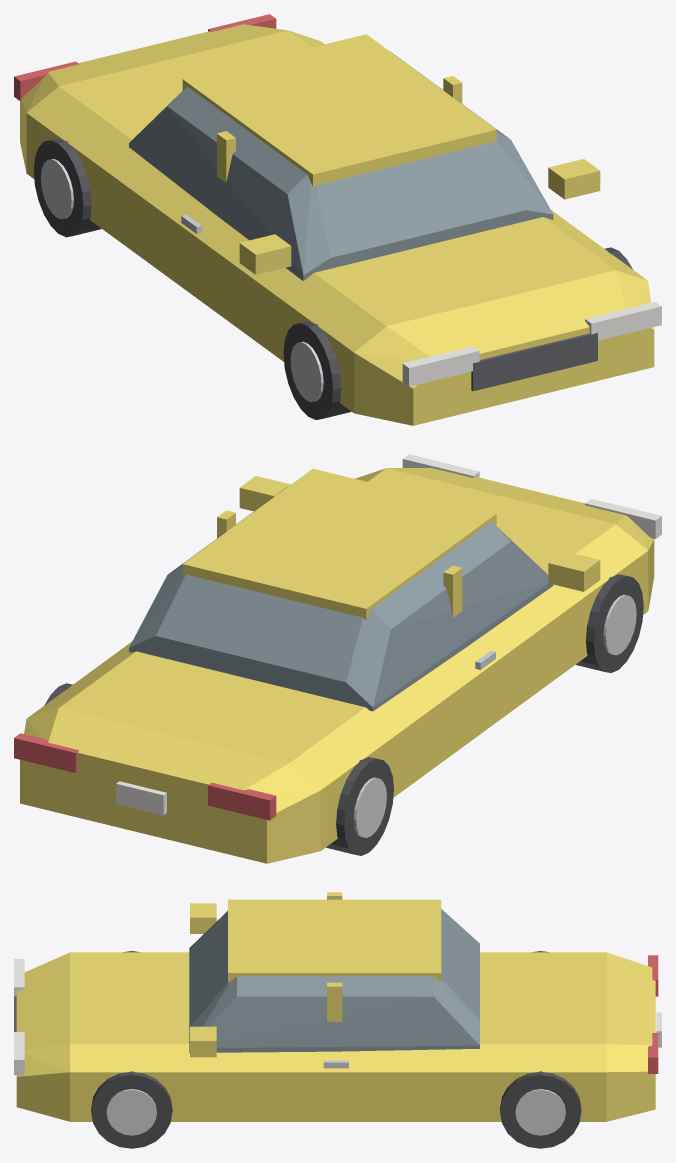
The model's file is revuelto-yellow-2026.glb.
3 views of the same model, one above another, from view 1: azimuth 30°, elevation 25°; view 2: azimuth 150°, elevation 25°; view 3: azimuth 270°, elevation 25° (orthographic). The views are drawn at different scales.
Parts seen in each view (by area): view 1: body, cabin_glass, roof, grille, wheel_-1_1_tire, wheel_-1_-1_tire, headlight_-1, headlight_1, mirror_-1, mirror_1, wheel_-1_1_rim, wheel_-1_-1_rim (+2 smaller); view 2: body, cabin_glass, roof, wheel_-1_1_tire, wheel_-1_-1_tire, taillight_-1, mirror_-1, taillight_1, wheel_-1_1_rim, wheel_-1_-1_rim, rear_plate, mirror_1 (+3 smaller); view 3: body, cabin_glass, roof, wheel_1_-1_tire, wheel_1_1_tire, wheel_1_1_rim, wheel_1_-1_rim, mirror_1, mirror_-1, pillar_1, headlight_1, taillight_1.
Boxes of the visible parts, x1,y1,x2,y2 form: body: [20, 24, 654, 425]; cabin_glass: [129, 51, 553, 280]; roof: [182, 34, 496, 185]; grille: [471, 333, 597, 391]; wheel_-1_1_tire: [283, 321, 351, 419]; wheel_-1_-1_tire: [33, 138, 101, 237]; headlight_-1: [402, 346, 479, 386]; headlight_1: [585, 301, 661, 340]; mirror_-1: [239, 234, 291, 274]; mirror_1: [548, 159, 600, 199]; wheel_-1_1_rim: [290, 341, 323, 402]; wheel_-1_-1_rim: [40, 159, 73, 219]; body: [20, 468, 654, 863]; cabin_glass: [129, 487, 553, 711]; roof: [182, 468, 496, 620]; wheel_-1_1_tire: [576, 574, 643, 672]; wheel_-1_-1_tire: [326, 757, 393, 855]; taillight_-1: [208, 782, 276, 820]; mirror_-1: [548, 551, 600, 591]; taillight_1: [14, 733, 78, 773]; wheel_-1_1_rim: [603, 594, 636, 655]; wheel_-1_-1_rim: [353, 777, 386, 837]; rear_plate: [116, 781, 166, 815]; mirror_1: [239, 476, 290, 511]; body: [16, 952, 655, 1121]; cabin_glass: [189, 909, 479, 1052]; roof: [228, 899, 441, 982]; wheel_1_-1_tire: [500, 1071, 581, 1148]; wheel_1_1_tire: [91, 1071, 172, 1148]; wheel_1_1_rim: [106, 1089, 156, 1135]; wheel_1_-1_rim: [515, 1089, 565, 1135]; mirror_1: [190, 1026, 216, 1057]; mirror_-1: [190, 903, 216, 933]; pillar_1: [327, 982, 342, 1021]; headlight_1: [14, 1032, 24, 1075]; taillight_1: [648, 1033, 658, 1073].
Bounding box in the file's own units: 2.32 × 1.18 × 4.62.
